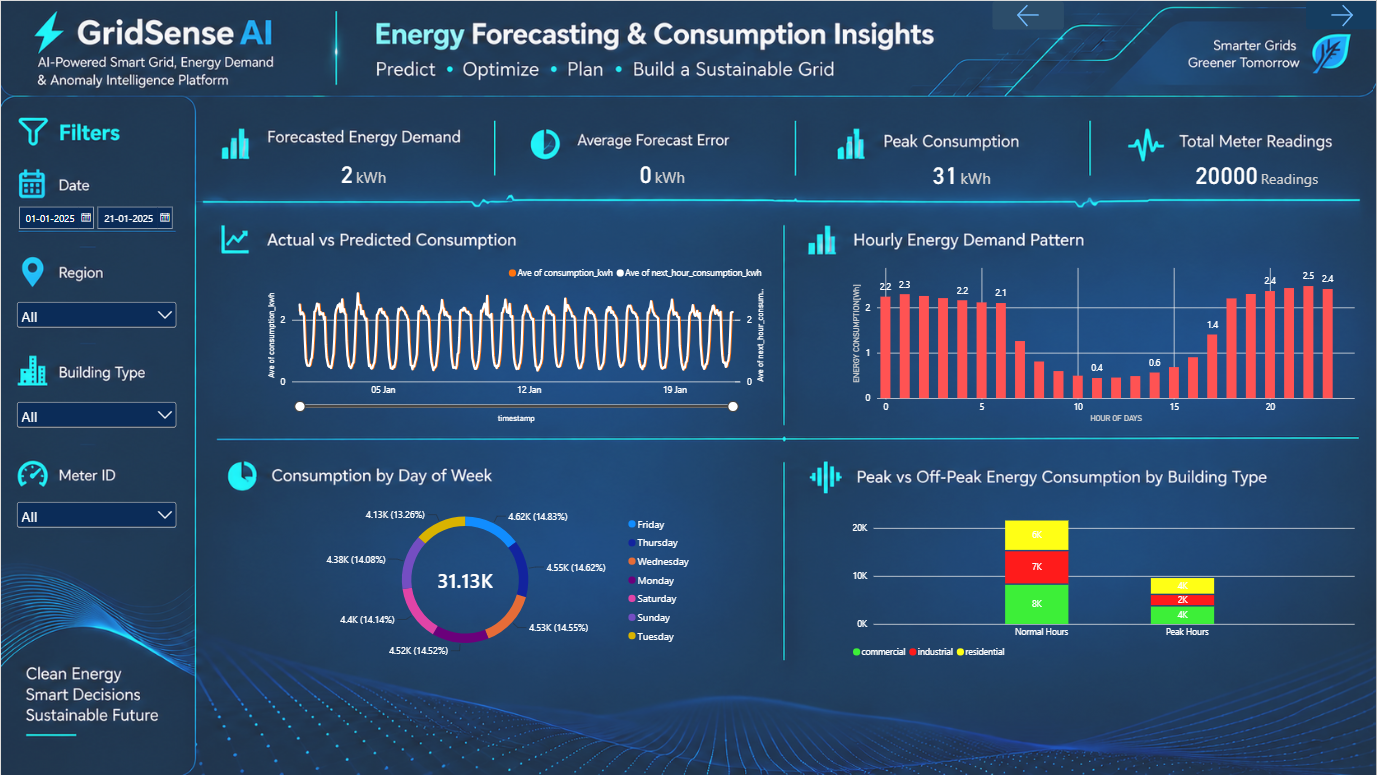

The page's visual inventory and layout, read from the dashboard file:
{"tool":"powerbi","page":{"name":"Energy Forecasting & Consumption Insights","canvas":[1920,1080],"ordinal":2},"visuals":[{"type":"lineChart","fields":{"Category":["smartgrid_cleaned.timestamp"],"Y":["Avg(smartgrid_cleaned.consumption_kwh)"],"Y2":["Avg(smartgrid_cleaned.next_hour_consumption_kwh)"]},"box":[356.6,351.2,725.9,254],"z":0},{"type":"clusteredColumnChart","fields":{"Category":["smartgrid_cleaned.hour"],"Y":["Avg(smartgrid_cleaned.consumption_kwh)"]},"box":[1172.5,351.2,733.1,254],"z":1000},{"type":"donutChart","fields":{"Category":["smartgrid_cleaned.day_name"],"Y":["Sum(smartgrid_cleaned.consumption_kwh)"]},"box":[405.3,679,580,259.4],"z":2000},{"type":"columnChart","fields":{"Category":["smartgrid_cleaned.peak_period"],"Series":["smartgrid_cleaned.building_type"],"Y":["Sum(smartgrid_cleaned.consumption_kwh)"]},"box":[1172.5,679,733.1,259.4],"z":3000},{"type":"slicer","fields":{"Values":["smartgrid_cleaned.date"]},"box":[18,282.8,232.3,52.2],"z":4000},{"type":"slicer","fields":{"Values":["smartgrid_cleaned.region"]},"box":[18,414.3,232.3,46.8],"z":5000},{"type":"slicer","fields":{"Values":["smartgrid_cleaned.building_type"]},"box":[18,554.7,232.3,50.4],"z":6000},{"type":"slicer","fields":{"Values":["smartgrid_cleaned.meter_id"]},"box":[18,693.4,232.3,52.2],"z":7000},{"type":"advanceCardE03760C5AB684758B56AA29F9E6C257B","fields":{"mainMeasure":["smartgrid_cleaned.Forecasted Energy Demand"]},"box":[372.8,203.5,264.8,79.2],"z":8000},{"type":"advanceCardE03760C5AB684758B56AA29F9E6C257B","fields":{"mainMeasure":["smartgrid_cleaned.Average Forecast Error"]},"box":[790.7,203.5,264.8,79.2],"z":9000},{"type":"advanceCardE03760C5AB684758B56AA29F9E6C257B","fields":{"mainMeasure":["smartgrid_cleaned.Peak Consumption"]},"box":[1224.8,207.1,232.3,75.6],"z":10000},{"type":"advanceCardE03760C5AB684758B56AA29F9E6C257B","fields":{"mainMeasure":["smartgrid_cleaned.Total Meter Readings"]},"box":[1635.4,207.1,232.3,75.6],"z":11000},{"type":"actionButton","box":[1820.9,0,100,40],"z":12000},{"type":"actionButton","box":[1383.1,0,100,40],"z":13000}]}

Visuals, with their boxes in screenshot pixels (x1, y1, x2, y2), scaled from the page's 1920x1080 canvas onto the 1377x775 screenshot:
lineChart - smartgrid_cleaned.timestamp x Avg(smartgrid_cleaned.consumption_kwh): 256, 252, 776, 434
clusteredColumnChart - smartgrid_cleaned.hour x Avg(smartgrid_cleaned.consumption_kwh): 841, 252, 1367, 434
donutChart - smartgrid_cleaned.day_name x Sum(smartgrid_cleaned.consumption_kwh): 291, 487, 707, 673
columnChart - smartgrid_cleaned.peak_period x smartgrid_cleaned.building_type: 841, 487, 1367, 673
slicer - smartgrid_cleaned.date: 13, 203, 180, 240
slicer - smartgrid_cleaned.region: 13, 297, 180, 331
slicer - smartgrid_cleaned.building_type: 13, 398, 180, 434
slicer - smartgrid_cleaned.meter_id: 13, 498, 180, 535
advanceCardE03760C5AB684758B56AA29F9E6C257B - smartgrid_cleaned.Forecasted Energy Demand: 267, 146, 457, 203
advanceCardE03760C5AB684758B56AA29F9E6C257B - smartgrid_cleaned.Average Forecast Error: 567, 146, 757, 203
advanceCardE03760C5AB684758B56AA29F9E6C257B - smartgrid_cleaned.Peak Consumption: 878, 149, 1045, 203
advanceCardE03760C5AB684758B56AA29F9E6C257B - smartgrid_cleaned.Total Meter Readings: 1173, 149, 1339, 203
actionButton: 1306, 0, 1376, 29
actionButton: 992, 0, 1064, 29
